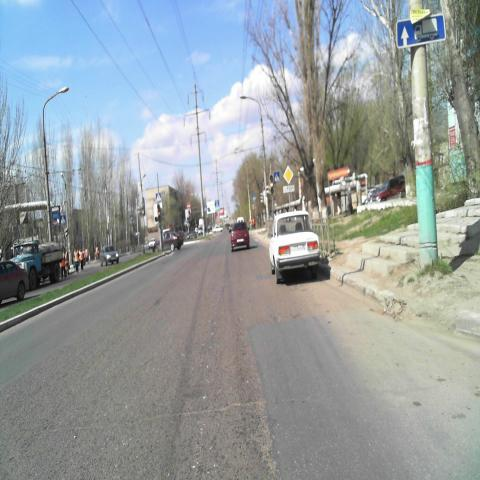6_15_1: (396, 16, 446, 47)
